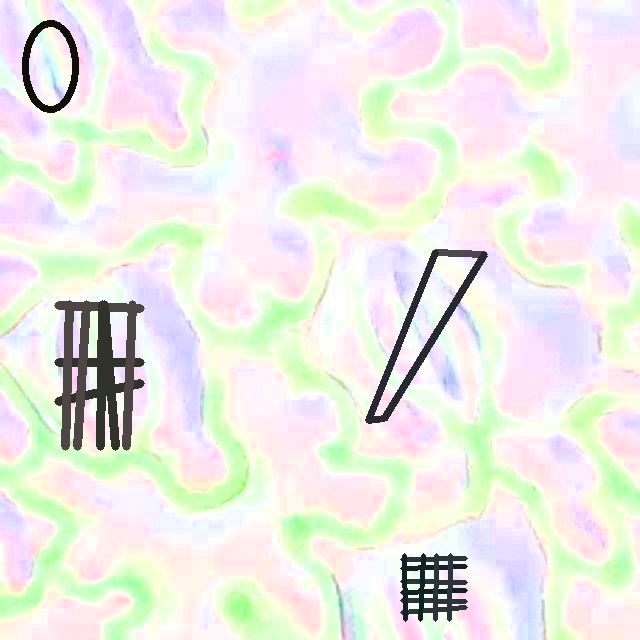open: (366, 249, 486, 421), (55, 300, 144, 449), (21, 19, 78, 114), (400, 553, 467, 621)
